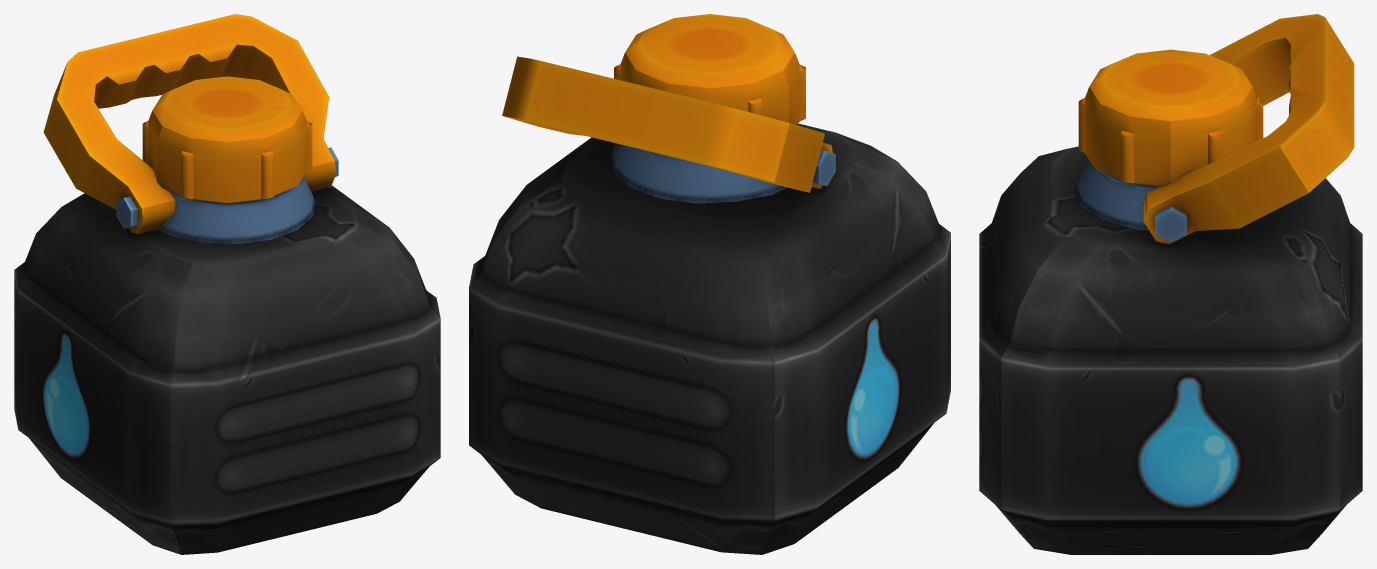
Rendered from obj_consumable_water.fbx.
3 views of the same model, side by side, from view 1: azimuth 30°, elevation 25°; view 2: azimuth 150°, elevation 25°; view 3: azimuth 270°, elevation 25° (orthographic). The views are drawn at different scales.
Parts seen in each view (by area): view 1: obj_consumable_water; view 2: obj_consumable_water; view 3: obj_consumable_water.
Part boxes in pixels (left/top/right/bottom): obj_consumable_water: left=14, top=14, right=440, bottom=554; obj_consumable_water: left=469, top=14, right=950, bottom=554; obj_consumable_water: left=979, top=14, right=1362, bottom=554.
Bounding box in the file's own units: 1.6 × 1.99 × 1.6.
